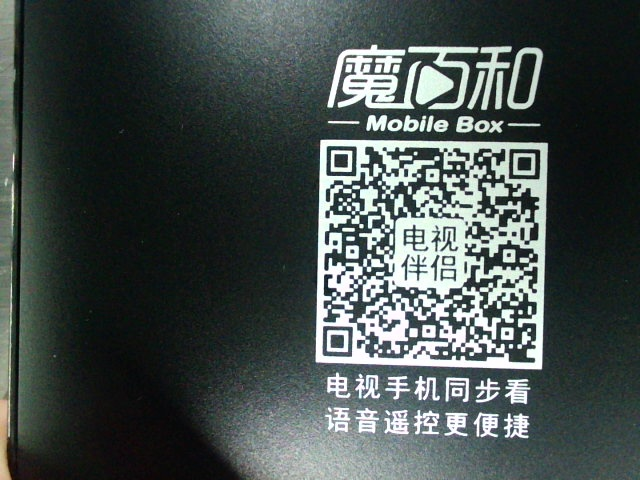AZ_MobileBox: (310, 37, 552, 440)
